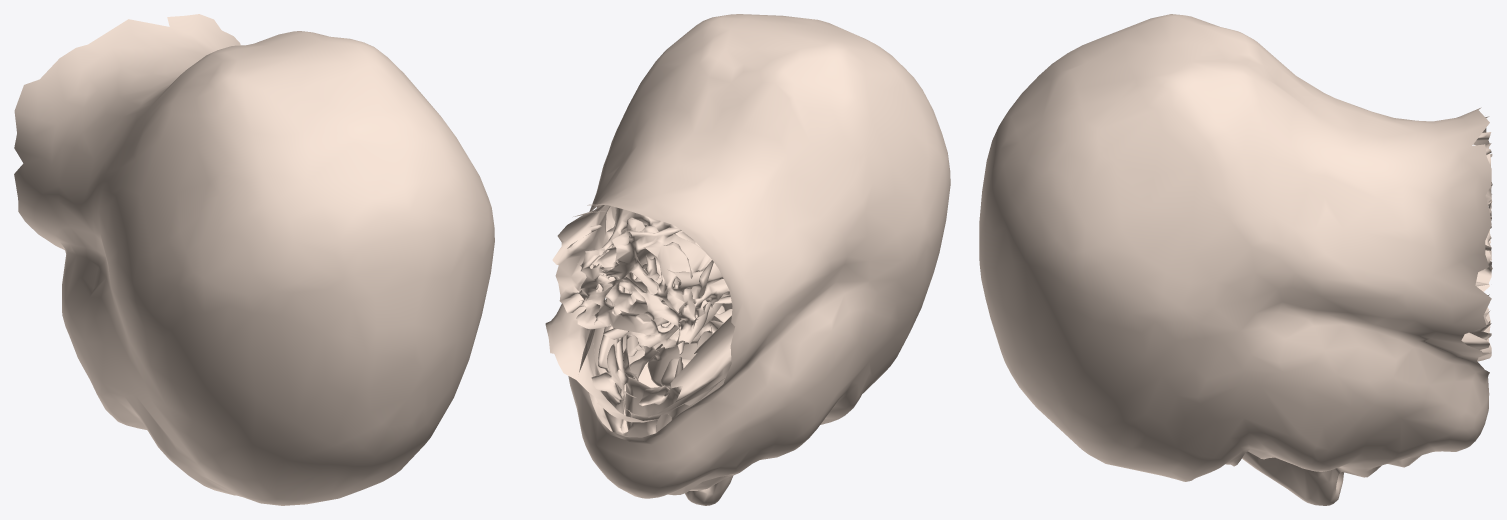
File: head__skin.45062afb53.glb
3 renders of one model, left to right at view 1: azimuth 30°, elevation 25°; view 2: azimuth 150°, elevation 25°; view 3: azimuth 270°, elevation 25°, orthographic. The views are drawn at different scales.
Parts seen in each view (by area): view 1: FMA7163; view 2: FMA7163; view 3: FMA7163.
Boxes of the visible parts, x1,y1,x2,y2 form: FMA7163: (14,14,494,505); FMA7163: (545,14,950,505); FMA7163: (979,14,1492,505).
Bounding box in the file's own units: 159 × 216 × 219.
